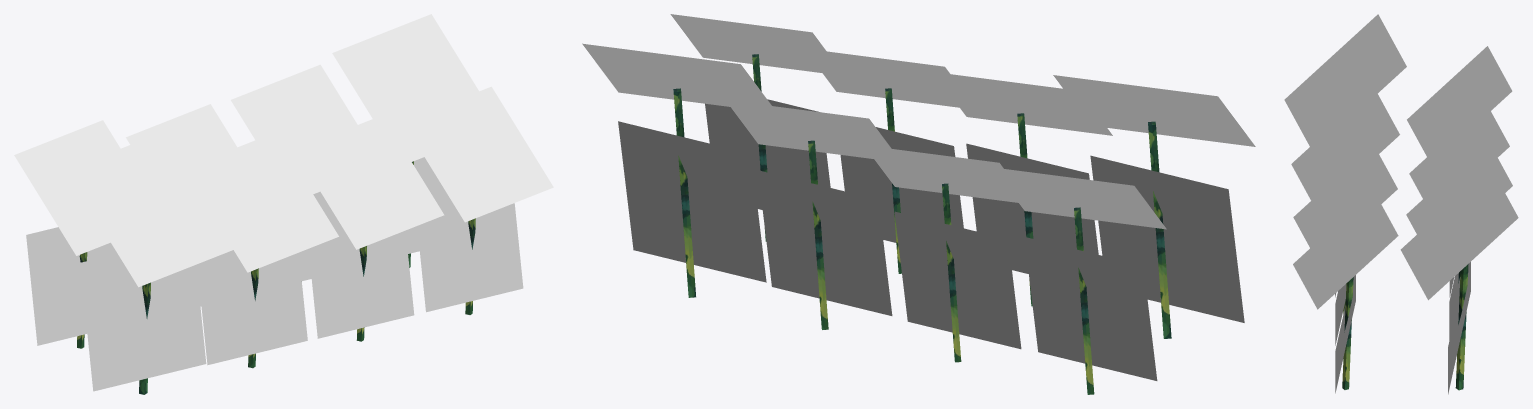
Rendered from Flower_WildPatch.fbx.
3 renders of one model, left to right at view 1: azimuth 30°, elevation 25°; view 2: azimuth 150°, elevation 25°; view 3: azimuth 270°, elevation 25°, orthographic. The views are drawn at different scales.
Parts seen in each view (by area): view 1: Flower_WildPatch.001; view 2: Flower_WildPatch.001; view 3: Flower_WildPatch.001.
Boxes of the visible parts, bbox=[...] form: Flower_WildPatch.001: bbox=[14, 14, 553, 394]; Flower_WildPatch.001: bbox=[582, 14, 1255, 394]; Flower_WildPatch.001: bbox=[1284, 14, 1518, 394].
Size of the model in its own units: 149 by 69.18 by 72.
4 materials, 1 textured.
